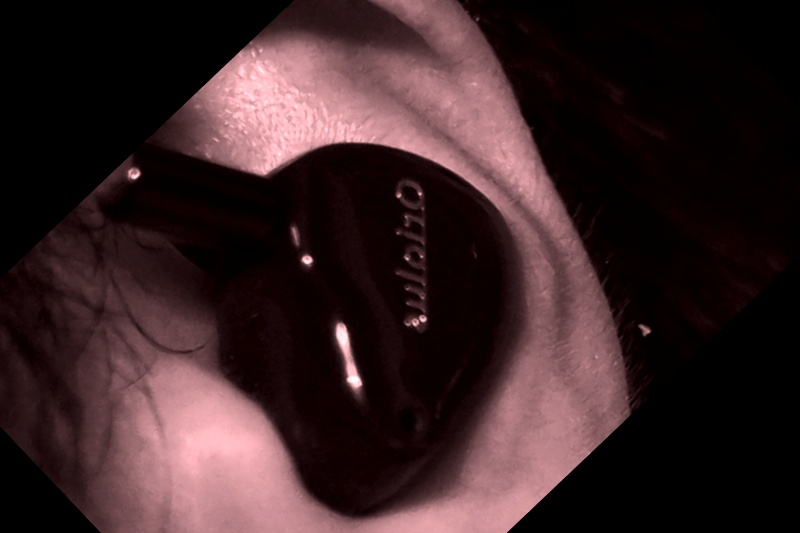earphone: (55, 0, 750, 533)
